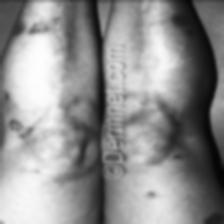Unclassified: (147, 144, 213, 222), (14, 17, 55, 41), (0, 114, 28, 138), (168, 12, 193, 35)
